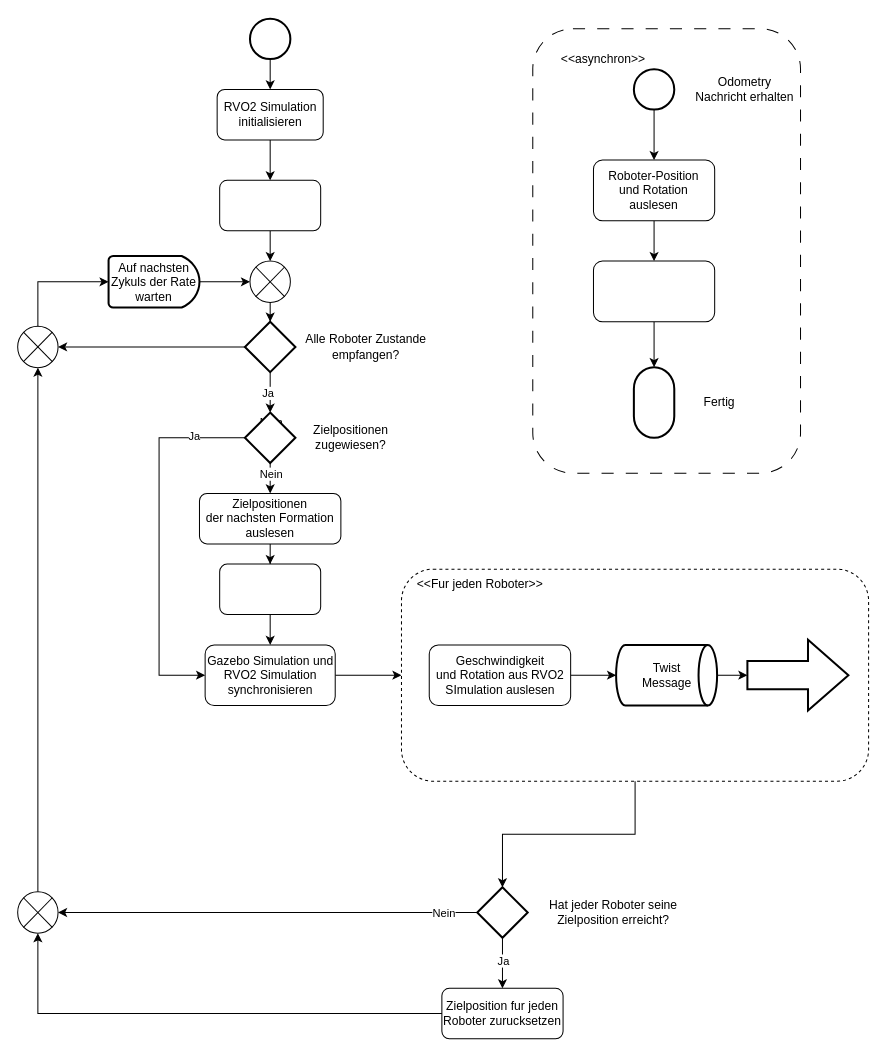
The diagram is 887 pixels wide and 1056 high, and some of its shapes have lost their labels. The centre of each missing label's shape, as x and y in pixels:
An Roboter senden: the point at 797,674
Roboter Zustand updaten: the point at 653,291
ROS2 rate initialisieren: the point at 270,205
Zielpositionen zuweisen: the point at 270,589
